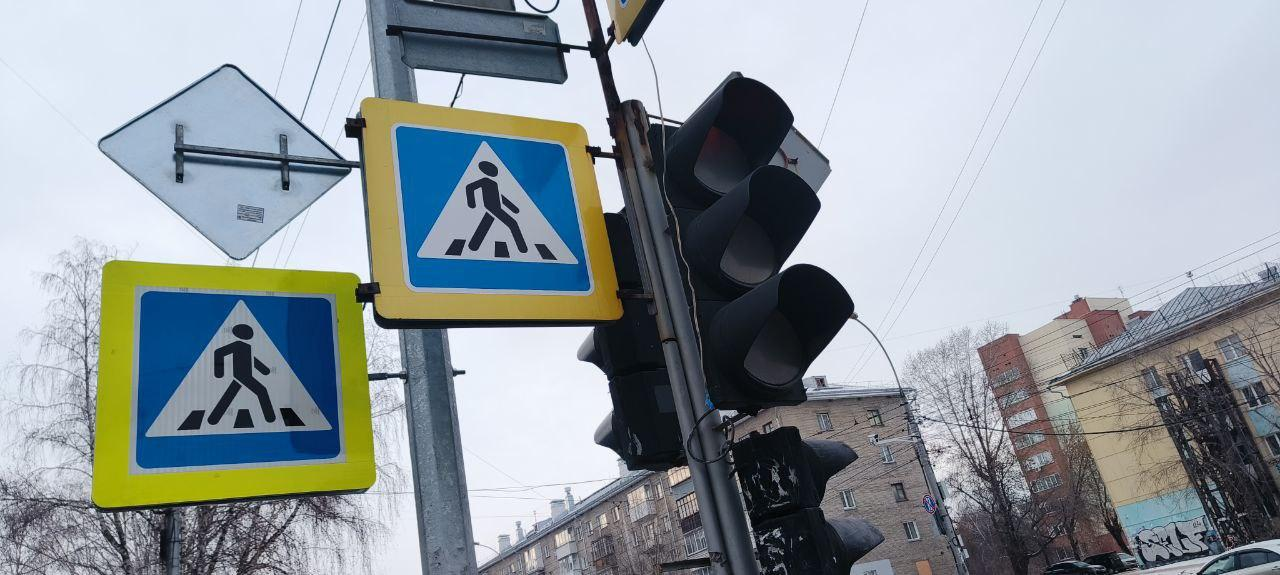off traffic light: (646, 75, 852, 409), (732, 428, 885, 575)
road_sign: (92, 260, 375, 508), (364, 97, 621, 321)
